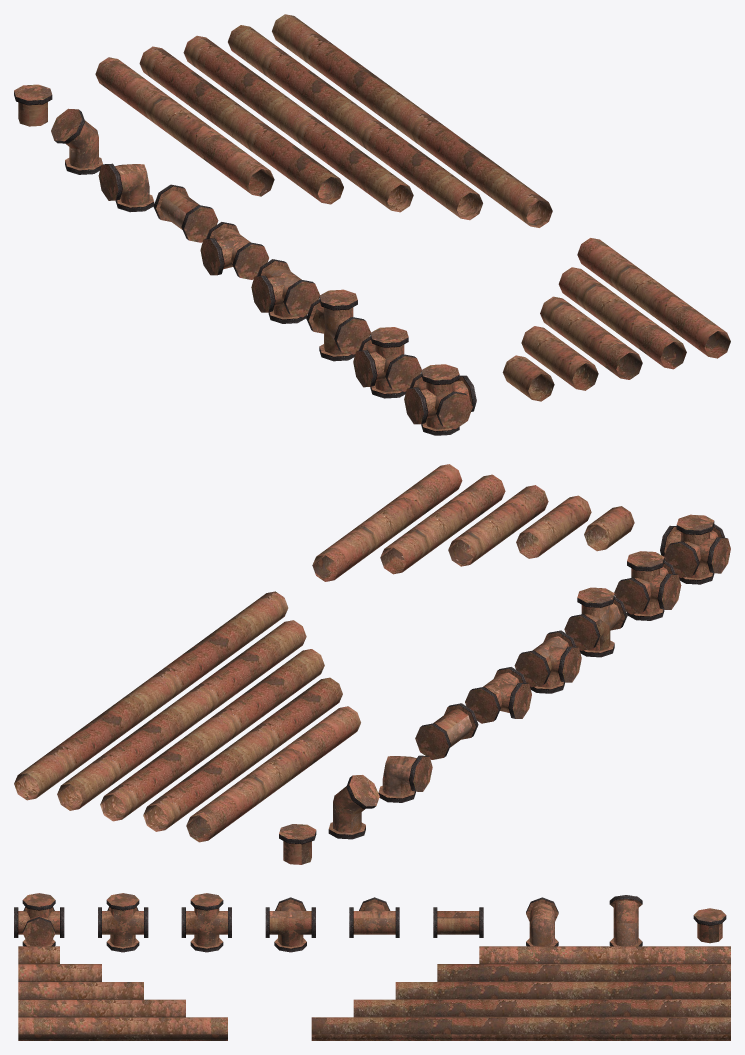
Rendered from industrial_pipe_construction_kit_psx_style.glb.
The picture shows the model from 3 angles, top to bottom: view 1: azimuth 30°, elevation 25°; view 2: azimuth 150°, elevation 25°; view 3: azimuth 270°, elevation 25°; orthographic projection. The views are drawn at different scales.
Visible parts, largest first — view 1: Tube10, Tube9, Tube8, Tube7, Tube6, Tube5, Tube4, Cross_Joint_extra, Cross_Joint_t, Tube3, Cross_Joint, T_plus_Joint (+7 smaller); view 2: Tube10, Tube9, Tube8, Tube7, Tube6, Tube5, Tube4, Cross_Joint_extra, Cross_Joint_t, Tube3, Cross_Joint, T_plus_Joint (+7 smaller); view 3: Tube10, Tube9, Tube8, Tube7, Tube5, Tube6, Tube4, Cross_Joint_t, Cross_Joint, Tube3, Cross_Joint_extra, T_plus_Joint (+7 smaller).
Part boxes in pixels (x1,y1,x2,y2): Tube10: (272,14,552,227); Tube9: (228,25,482,220); Tube8: (183,35,413,212); Tube7: (139,46,343,204); Tube6: (95,57,274,196); Tube5: (577,238,730,358); Tube4: (558,267,686,369); Cross_Joint_extra: (404,364,476,435); Cross_Joint_t: (353,327,421,398); Tube3: (540,296,642,379); Cross_Joint: (306,289,370,361); T_plus_Joint: (251,259,319,323); Tube10: (14,591,288,800); Tube9: (57,620,306,810); Tube8: (100,649,324,821); Tube7: (143,677,342,831); Tube6: (186,706,360,842); Tube5: (312,464,462,581); Tube4: (380,474,505,574); Cross_Joint_extra: (660,514,730,584); Cross_Joint_t: (614,551,681,620); Tube3: (448,485,548,566); Cross_Joint: (564,587,627,657); T_plus_Joint: (514,630,581,693); Tube10: (311,1017,730,1040); Tube9: (353,999,730,1017); Tube8: (395,982,730,999); Tube7: (437,964,730,981); Tube5: (18,1017,227,1040); Tube6: (479,946,730,963); Tube4: (18,999,185,1017); Cross_Joint_t: (98,893,148,952); Cross_Joint: (181,893,231,952); Tube3: (18,982,143,999); Cross_Joint_extra: (14,893,64,946); T_plus_Joint: (265,897,315,952).
Bounding box in the file's own units: 6.97 × 1.27 × 17.1.
Materials: 1 (1 with a texture image).
